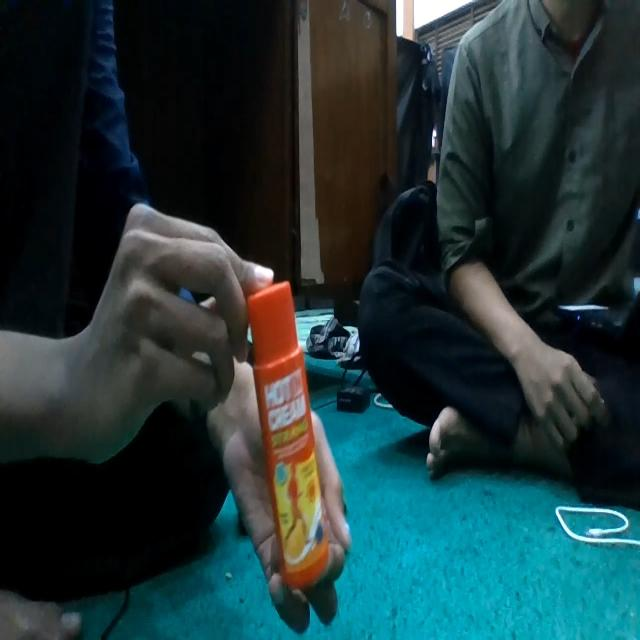Boncabe: (248, 282, 328, 588)
